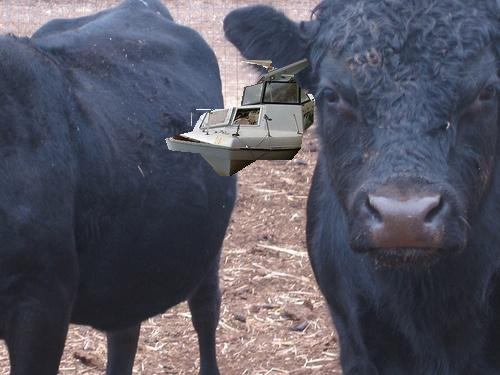tampered: (166, 59, 315, 176)
